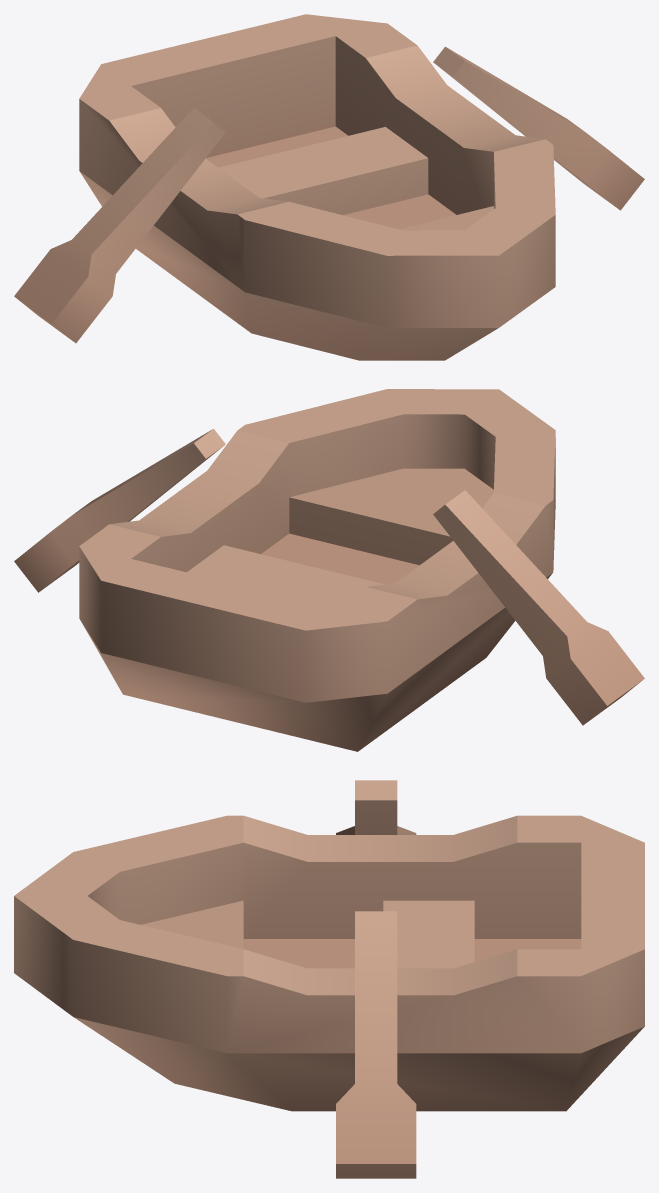
The model's file is canoe-hull.glb.
The picture shows the model from 3 angles, top to bottom: view 1: azimuth 30°, elevation 25°; view 2: azimuth 150°, elevation 25°; view 3: azimuth 270°, elevation 25°; orthographic projection. The views are drawn at different scales.
Visible parts, largest first — view 1: boat-row-small; view 2: boat-row-small; view 3: boat-row-small.
Boxes of the visible parts, x1,y1,x2,y2 form: boat-row-small: (14, 14, 644, 360); boat-row-small: (14, 389, 644, 751); boat-row-small: (14, 780, 644, 1178).
Size of the model in its own units: 3.4 by 1.05 by 2.93.
